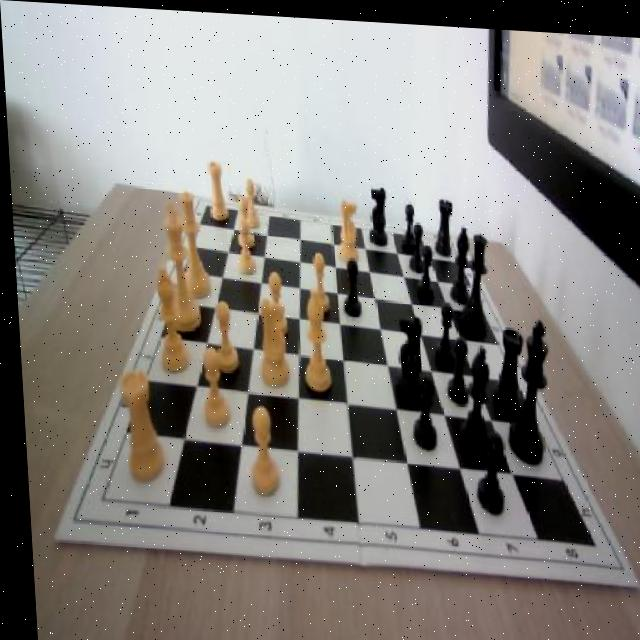bishop: (448, 334, 488, 453), (444, 219, 470, 301)
black-bishop: (498, 313, 550, 460)
black-king: (388, 311, 422, 403), (366, 181, 390, 243)
black-knight: (468, 424, 501, 509), (406, 367, 435, 445), (439, 331, 466, 401), (428, 295, 452, 363), (339, 252, 360, 314), (412, 239, 433, 297), (404, 217, 421, 271), (398, 198, 415, 249)
black-pawn: (452, 225, 490, 332)
black-queen: (486, 319, 522, 409), (431, 194, 453, 252)
black-rook: (146, 264, 188, 372), (296, 289, 327, 390)
white-bishop: (153, 199, 199, 333)
white-king: (247, 285, 290, 388), (333, 194, 359, 259)
white-knight: (238, 404, 275, 496), (193, 342, 227, 428), (206, 297, 237, 374), (258, 269, 285, 337), (305, 251, 328, 311), (231, 216, 253, 274), (238, 175, 259, 226), (233, 193, 253, 244)
white-pawn: (171, 189, 209, 297)
white-queen: (114, 368, 159, 482), (205, 158, 227, 222)
